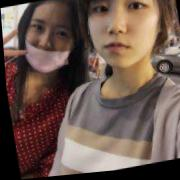NONE: (82, 1, 165, 76)
WRONG: (19, 9, 78, 76)
